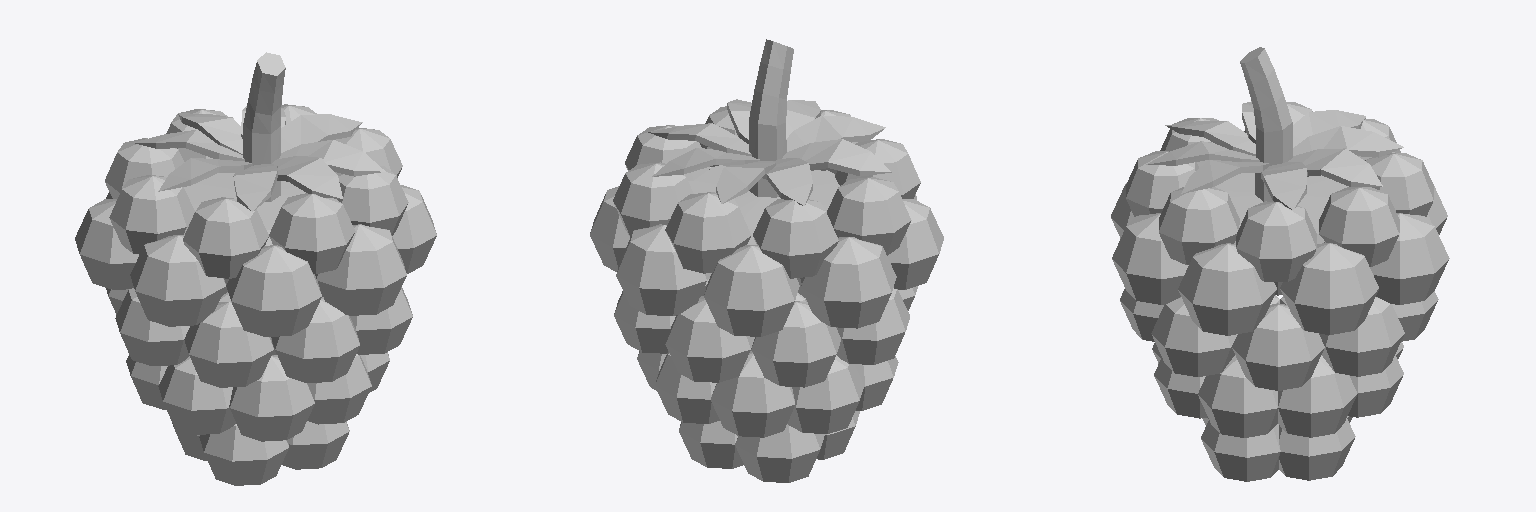
The model's file is RaspberryLP.obj.
3 views of the same model, side by side, from view 1: azimuth 30°, elevation 25°; view 2: azimuth 150°, elevation 25°; view 3: azimuth 270°, elevation 25° (orthographic).
Parts seen in each view (by area): view 1: Cube.001; view 2: Cube.001; view 3: Cube.001.
Part boxes in pixels (x1,y1,x2,y2): Cube.001: (75, 52, 436, 485); Cube.001: (590, 39, 943, 482); Cube.001: (1111, 47, 1449, 481).
Size of the model in its own units: 0.6441 by 0.8554 by 0.63.